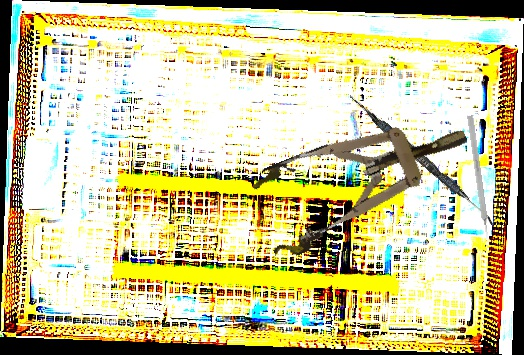Hook Surgical: (467, 115, 491, 243)
Spatula Surgical: (344, 93, 500, 226)
Speculum: (243, 93, 484, 264)
